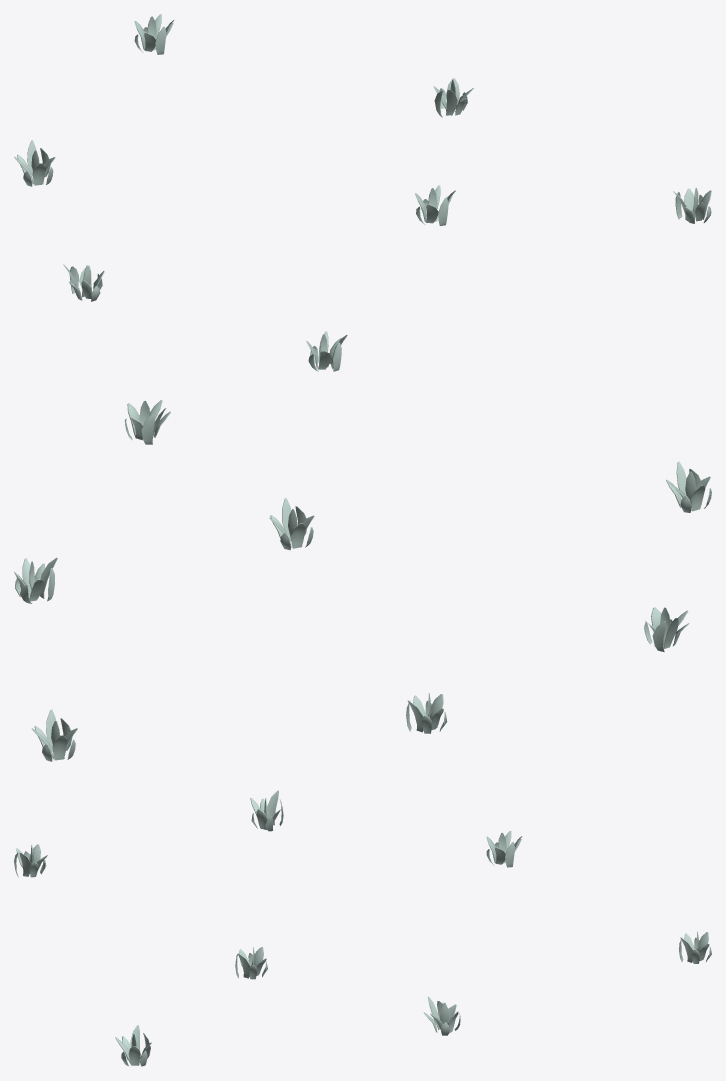
Rendered from a_z1_grass_s_many.fbx.
3 renders of one model, top to bottom at view 1: azimuth 30°, elevation 25°; view 2: azimuth 150°, elevation 25°; view 3: azimuth 270°, elevation 25°, orthographic. The views are drawn at different scales.
Parts seen in each view (by area): view 1: a_z1_grass_s_many; view 2: a_z1_grass_s_many; view 3: a_z1_grass_s_many.
Boxes of the visible parts, left/top/right/bottom form: a_z1_grass_s_many: left=14, top=14, right=711, bottom=371; a_z1_grass_s_many: left=14, top=400, right=711, bottom=761; a_z1_grass_s_many: left=14, top=790, right=711, bottom=1066.
Size of the model in its own units: 623 by 33.71 by 730.
